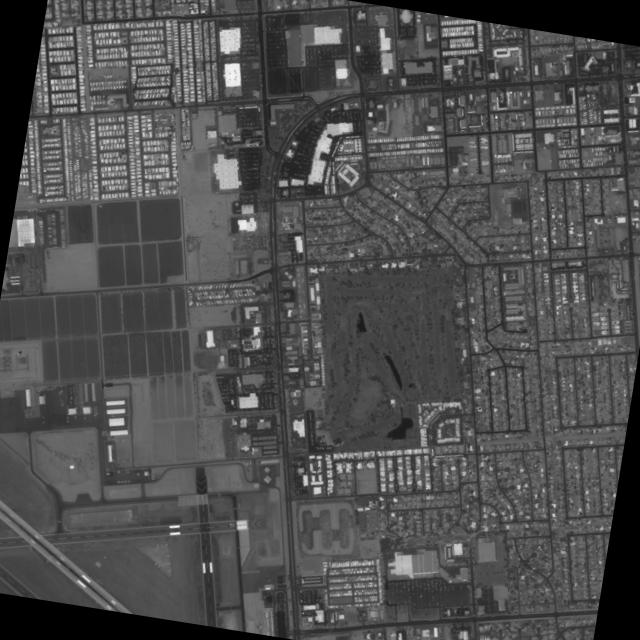plane: (255, 623, 264, 632), (64, 416, 69, 420), (135, 472, 140, 476), (119, 480, 123, 484), (82, 416, 86, 420), (65, 420, 70, 423), (126, 480, 130, 483), (125, 471, 129, 474), (73, 415, 76, 419), (116, 480, 119, 484), (123, 480, 126, 484), (60, 403, 63, 406), (60, 400, 63, 403), (59, 390, 62, 393), (58, 392, 60, 395), (94, 412, 96, 415), (93, 414, 95, 417), (93, 411, 95, 413), (94, 409, 96, 411), (93, 408, 94, 410)
